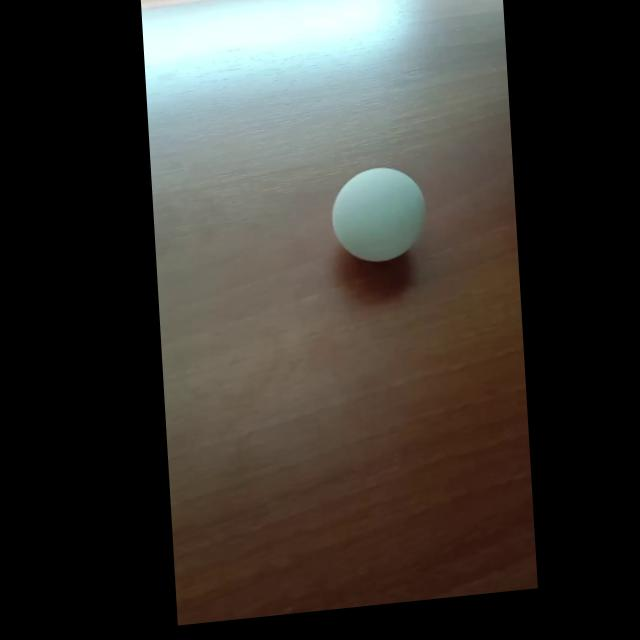white ball: (329, 161, 429, 267)
